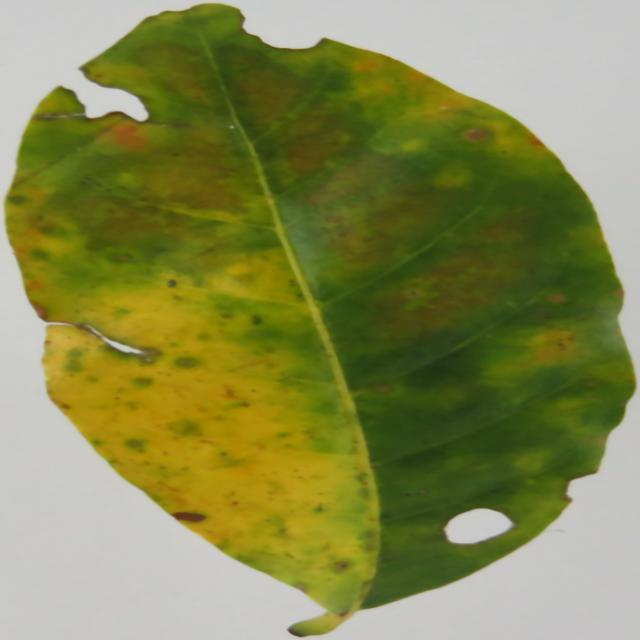DeficienciaNutricional-Fosforo: (7, 4, 634, 636)
